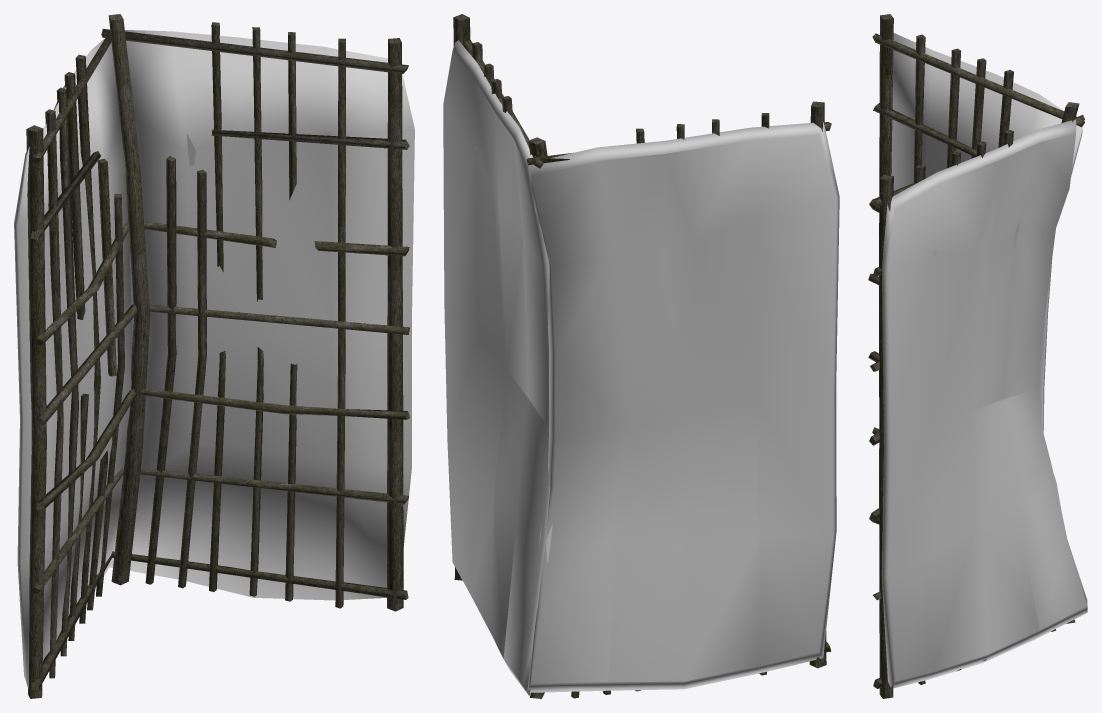
File: TI_Roof_04.fbx
The picture shows the model from 3 angles, left to right: view 1: azimuth 30°, elevation 25°; view 2: azimuth 150°, elevation 25°; view 3: azimuth 270°, elevation 25°; orthographic projection. The views are drawn at different scales.
Parts seen in each view (by area): view 1: Ti_M_Roof_05, TI_Roof_Frame_03; view 2: Ti_M_Roof_05, TI_Roof_Frame_03; view 3: Ti_M_Roof_05, TI_Roof_Frame_03.
Boxes of the visible parts, x1,y1,x2,y2 form: Ti_M_Roof_05: (14, 30, 414, 687); TI_Roof_Frame_03: (26, 14, 410, 698); Ti_M_Roof_05: (443, 40, 839, 695); TI_Roof_Frame_03: (453, 14, 831, 698); Ti_M_Roof_05: (881, 33, 1087, 688); TI_Roof_Frame_03: (868, 14, 1084, 698).
Size of the model in its own units: 7.19 by 9.95 by 3.77.
